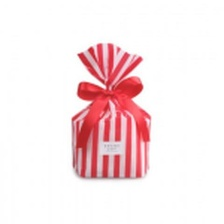snack: (62, 37, 164, 185)
